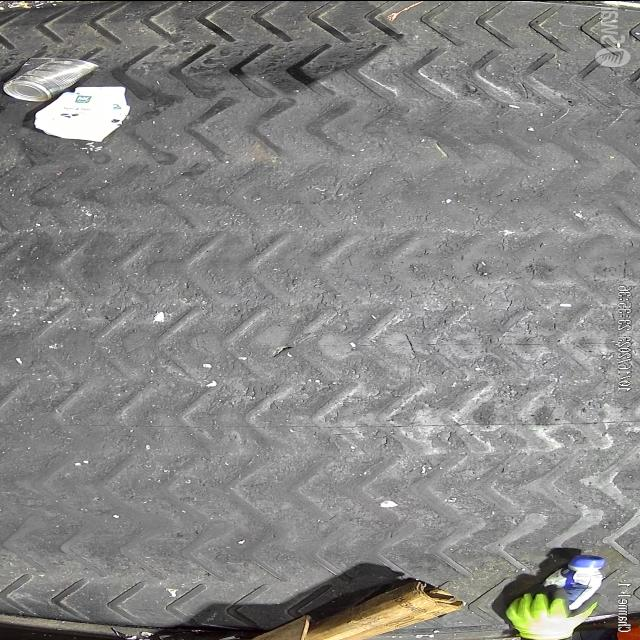can: (1, 56, 100, 101)
